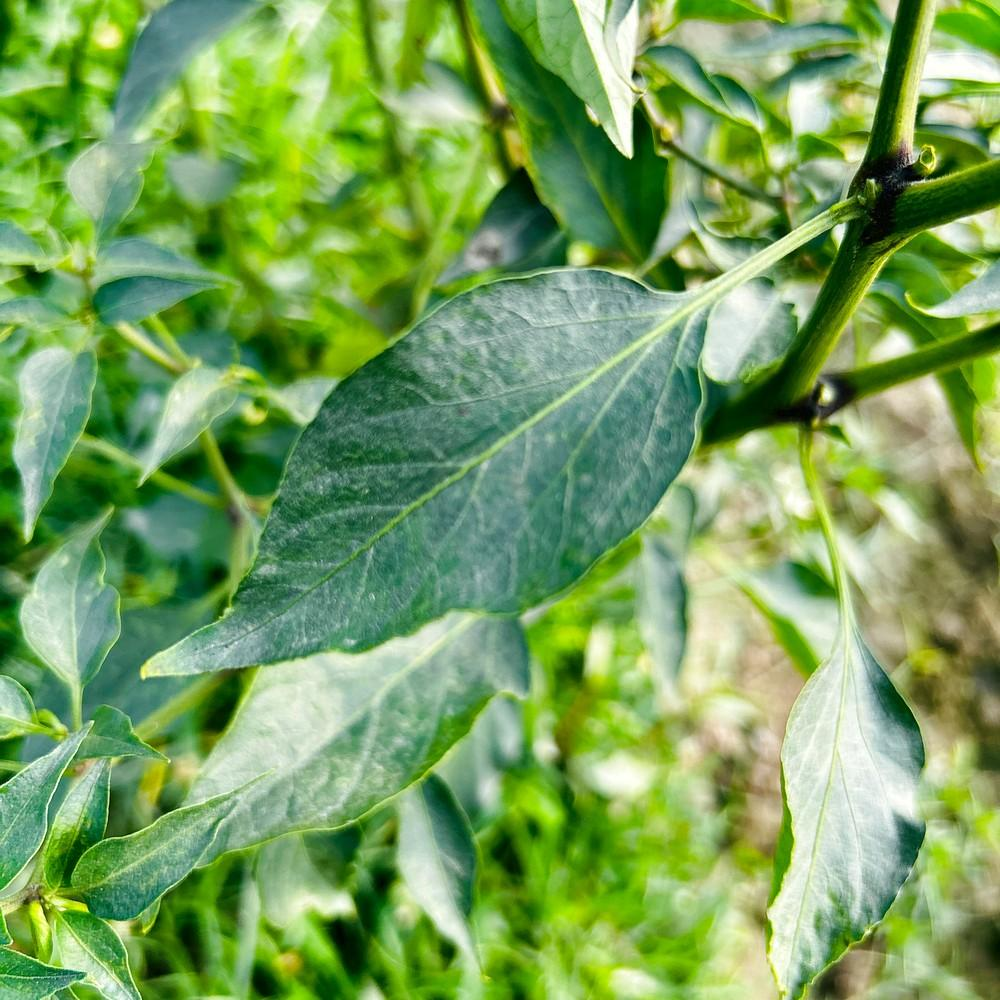Daun Cabai Sehat: (144, 271, 720, 677), (778, 621, 936, 1000), (72, 779, 268, 933), (16, 493, 125, 712), (0, 340, 88, 538)
